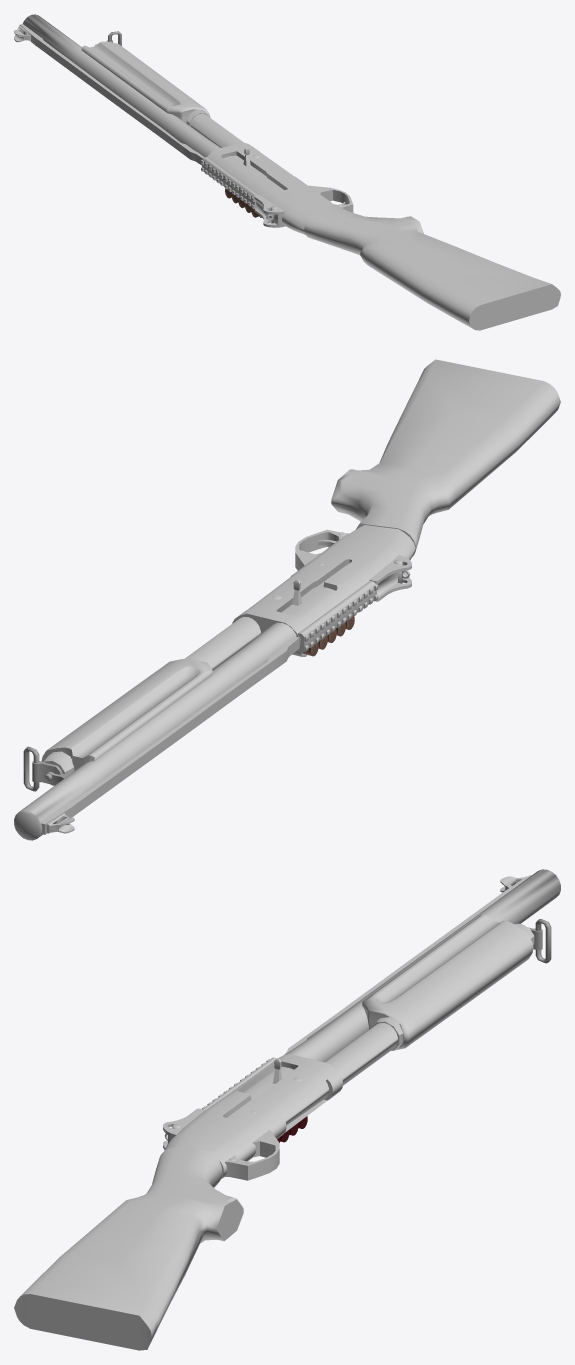
The model's file is Pickup_Shotgun.fbx.
3 renders of one model, top to bottom at view 1: azimuth 30°, elevation 25°; view 2: azimuth 150°, elevation 25°; view 3: azimuth 330°, elevation 25°, orthographic. The views are drawn at different scales.
Visible parts, largest first — view 1: polySurface2, Pump; view 2: polySurface2, Pump; view 3: polySurface2, Pump.
Boxes of the visible parts, box(x1,y1,x2,y2) form: polySurface2: box(14, 14, 560, 330); Pump: box(81, 41, 281, 188); polySurface2: box(14, 359, 560, 840); Pump: box(41, 566, 345, 770); polySurface2: box(14, 869, 560, 1350); Pump: box(227, 914, 533, 1117).
Size of the model in its own units: 5.4 by 1.83 by 26.48.
